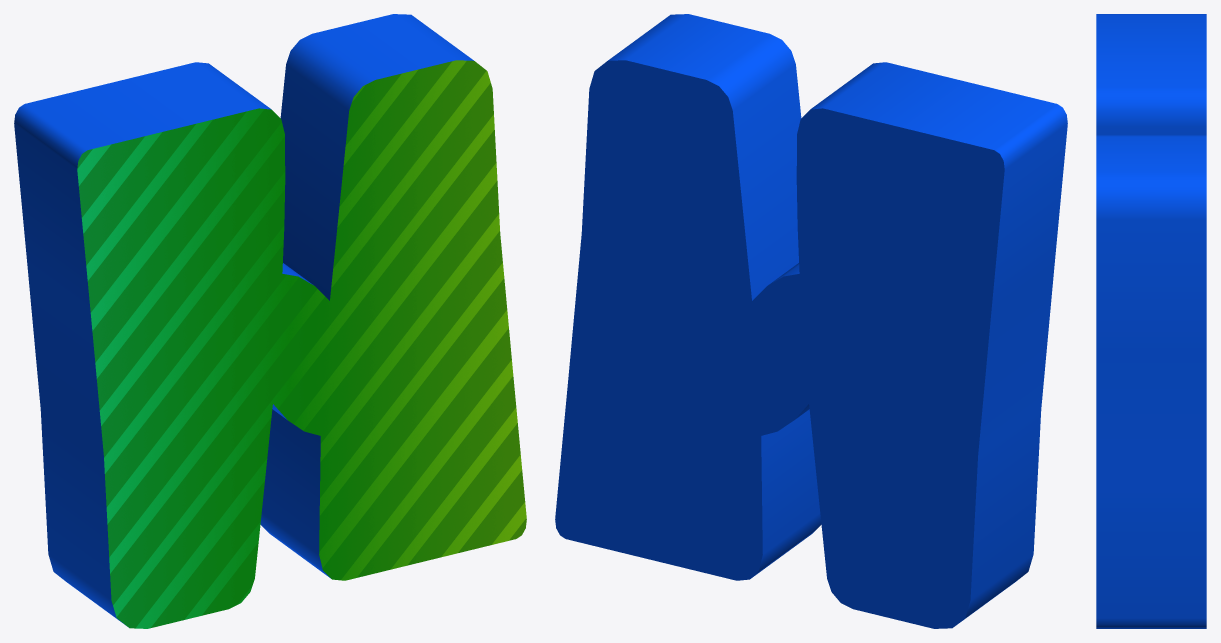
3 renders of one model, left to right at view 1: azimuth 30°, elevation 25°; view 2: azimuth 150°, elevation 25°; view 3: azimuth 270°, elevation 25°, orthographic. The views are drawn at different scales.
Visible parts, largest first — view 1: H; view 2: H; view 3: H.
Boxes of the visible parts, bbox=[...] form: H: bbox=[14, 14, 526, 628]; H: bbox=[555, 14, 1067, 628]; H: bbox=[1096, 14, 1206, 628].
Size of the model in its own units: 82.22 by 86.23 by 20.
Materials: 2 (1 with a texture image).
